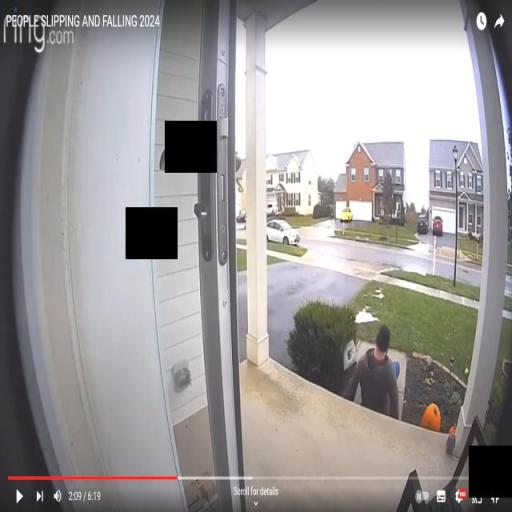Fall: (344, 318, 402, 421)
